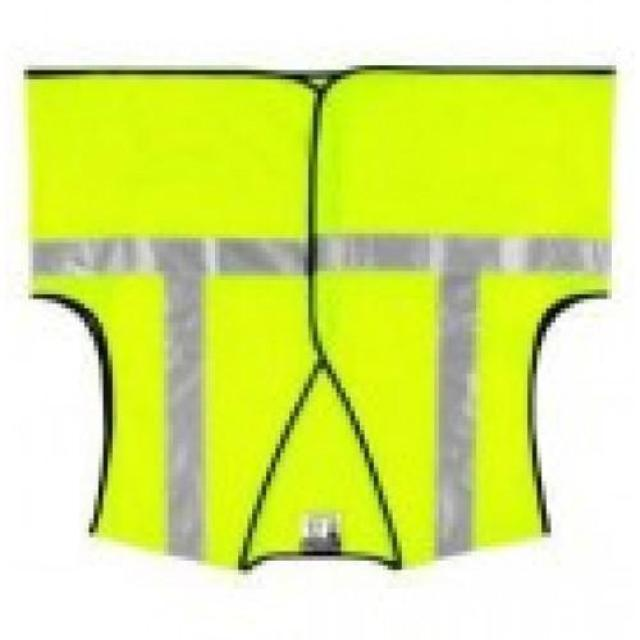jacket: (16, 62, 626, 576)
